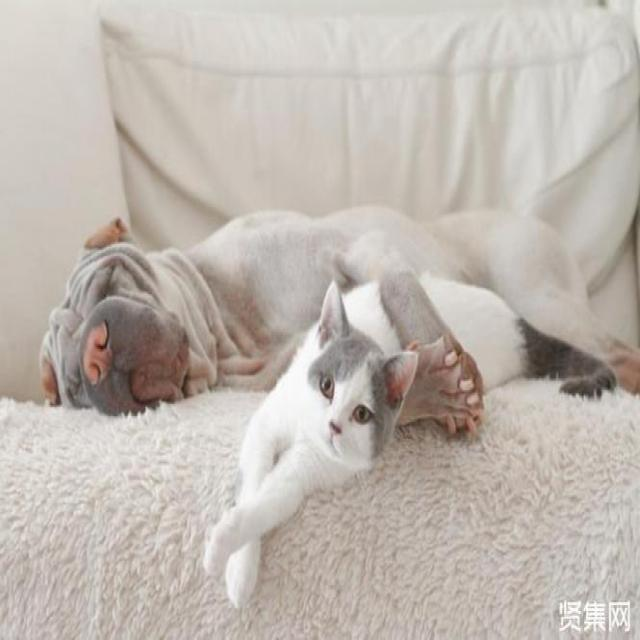cat: (275, 268, 412, 498)
dog: (24, 207, 211, 436)
